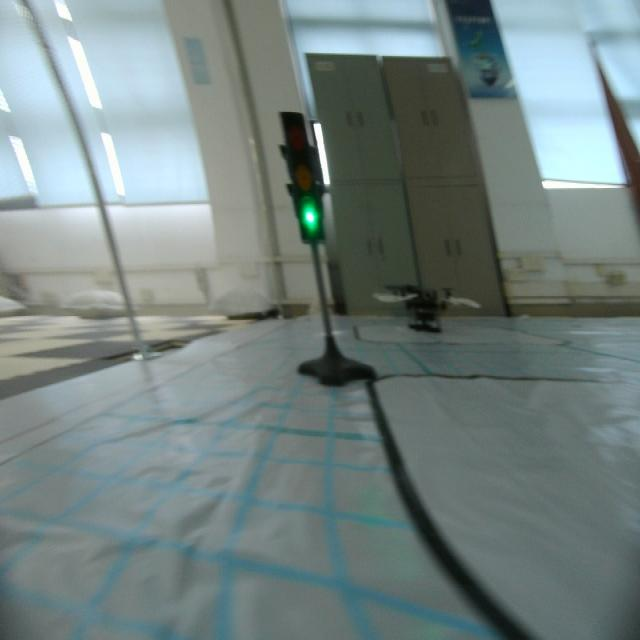green: (267, 105, 331, 250)
